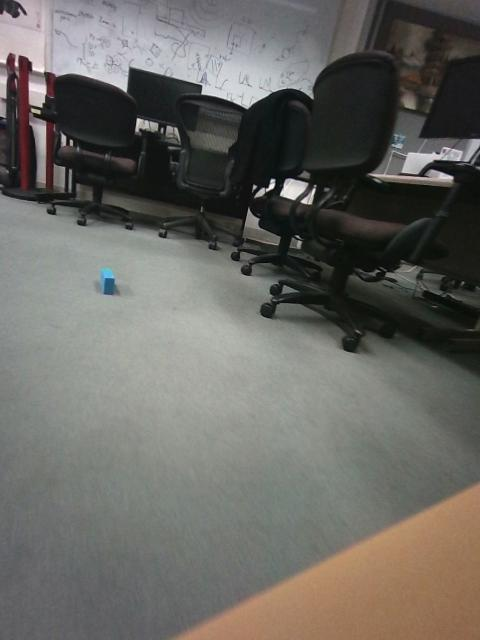block: (159, 252, 196, 281)
